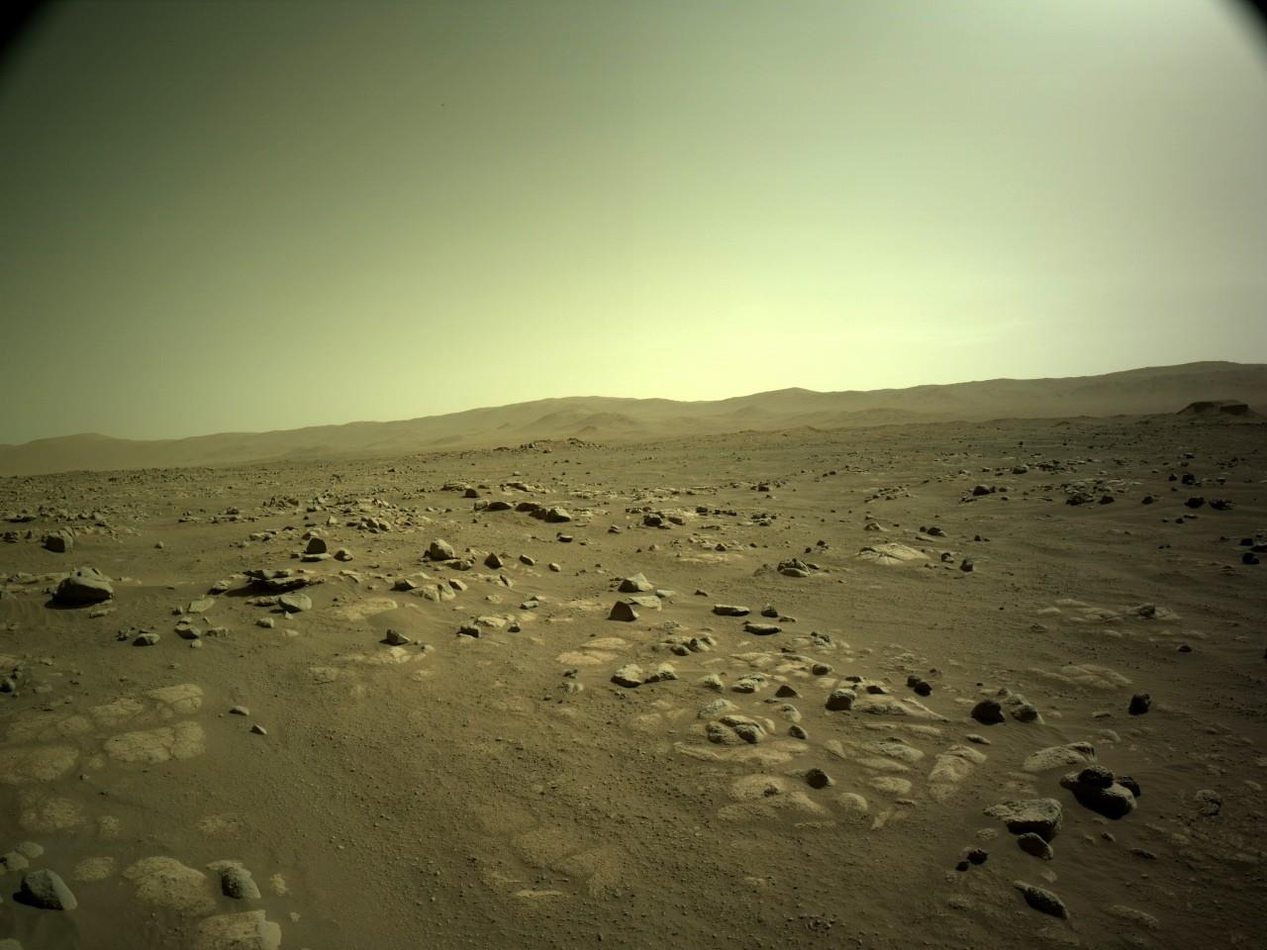bedrock: (318, 567, 1261, 947), (480, 459, 1183, 601), (5, 665, 309, 949), (990, 845, 1097, 891), (514, 441, 682, 459), (993, 879, 1048, 900), (475, 688, 522, 705), (629, 743, 664, 764), (972, 564, 1020, 578), (57, 476, 176, 480), (706, 801, 715, 808), (1013, 611, 1021, 618), (17, 480, 30, 483), (299, 620, 304, 622), (974, 672, 979, 673), (623, 566, 624, 567)
big_rock: (8, 683, 14, 707), (31, 477, 49, 479), (49, 588, 51, 602)
sand: (1233, 602, 1256, 612)
soil: (291, 717, 996, 945), (692, 430, 1261, 605), (228, 477, 475, 499), (1233, 621, 1258, 801), (10, 484, 27, 674), (240, 461, 509, 473), (10, 943, 96, 948)
